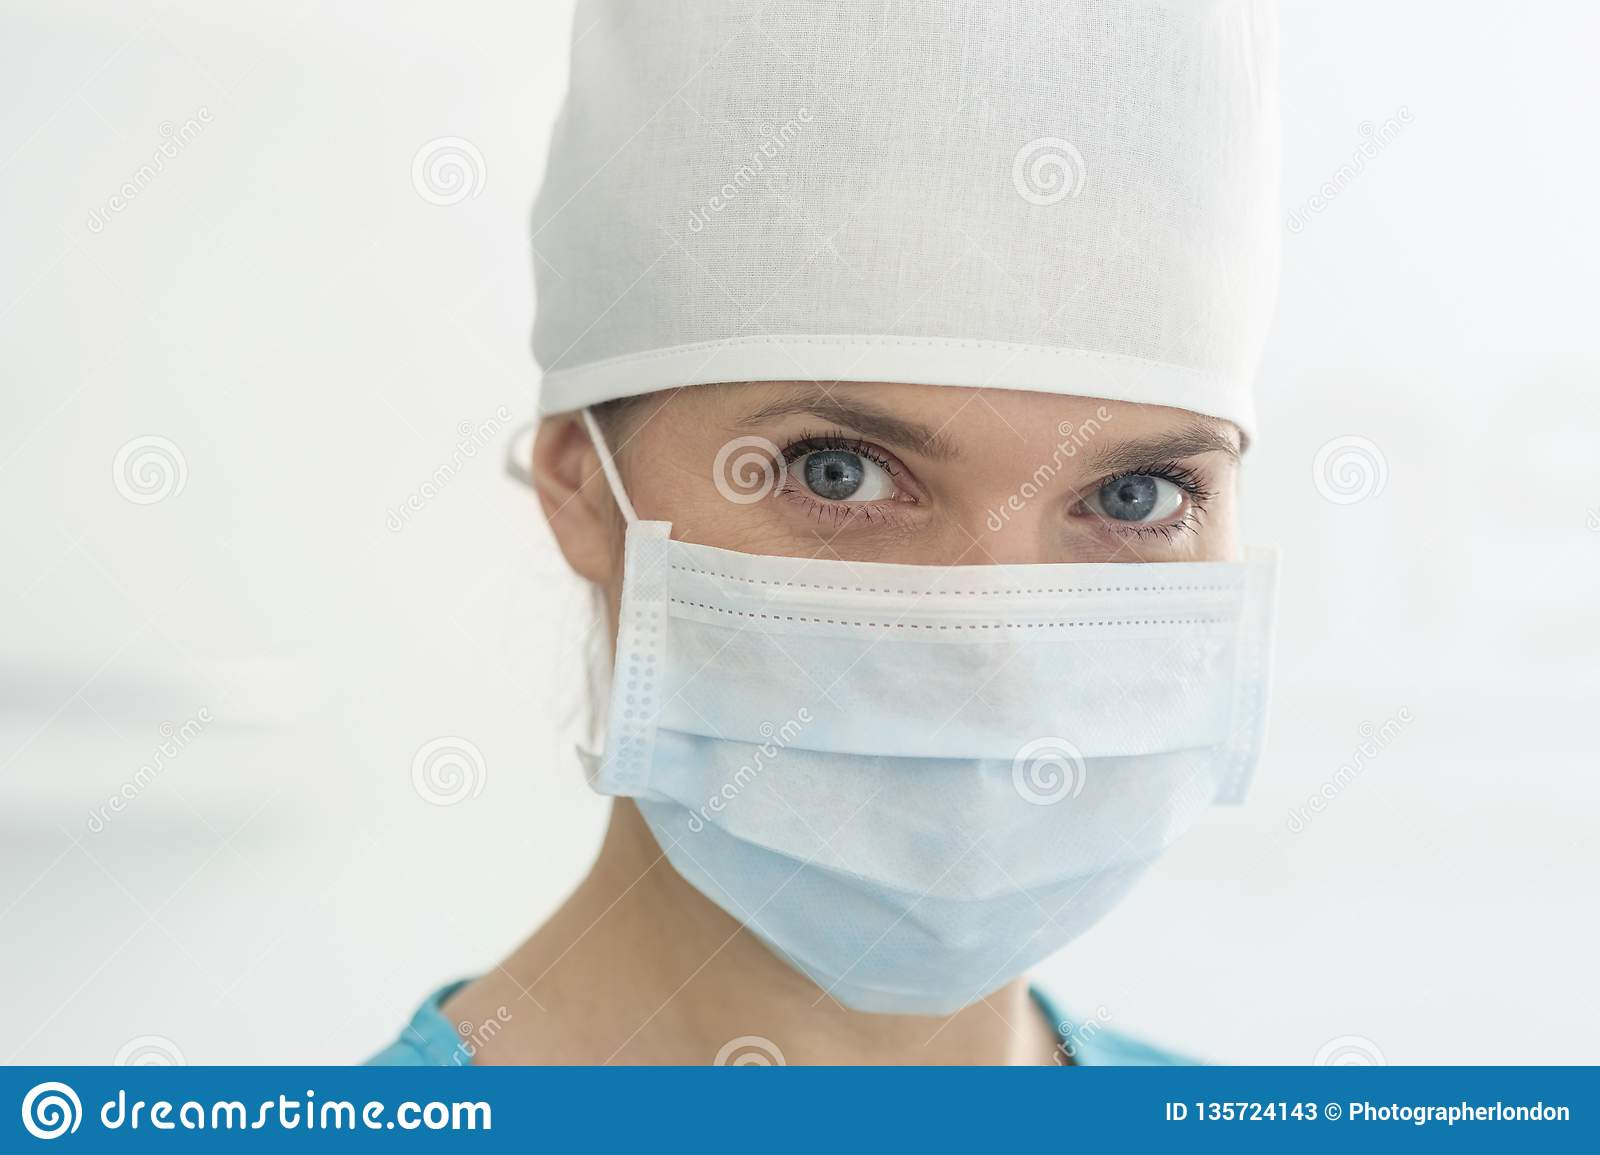mask: (594, 515, 1307, 997)
